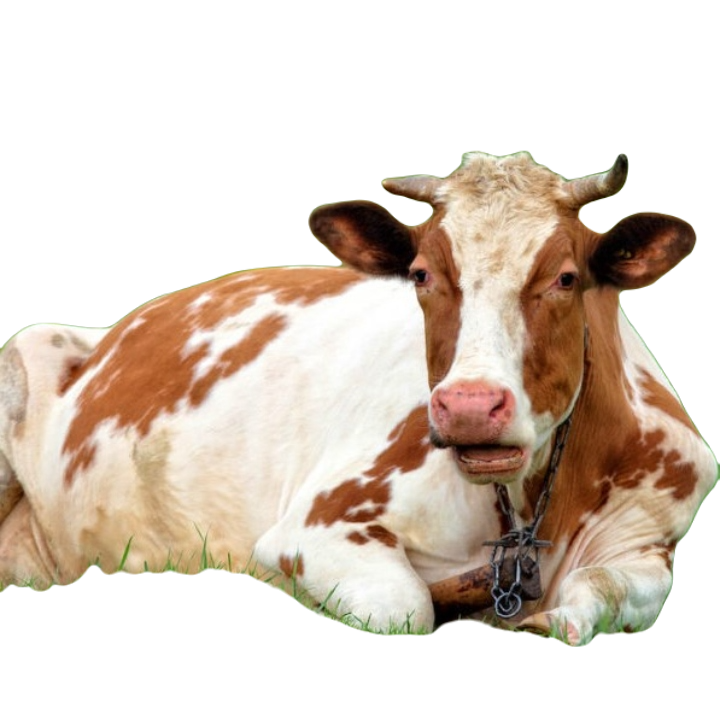Cow: (2, 148, 719, 648)
